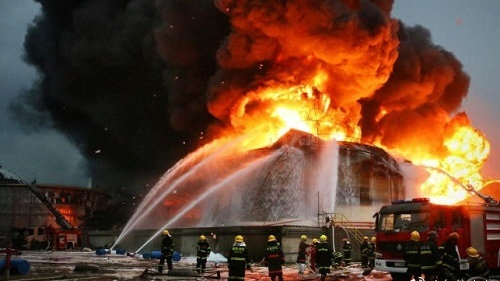fire: (220, 65, 366, 148), (398, 118, 490, 204)
